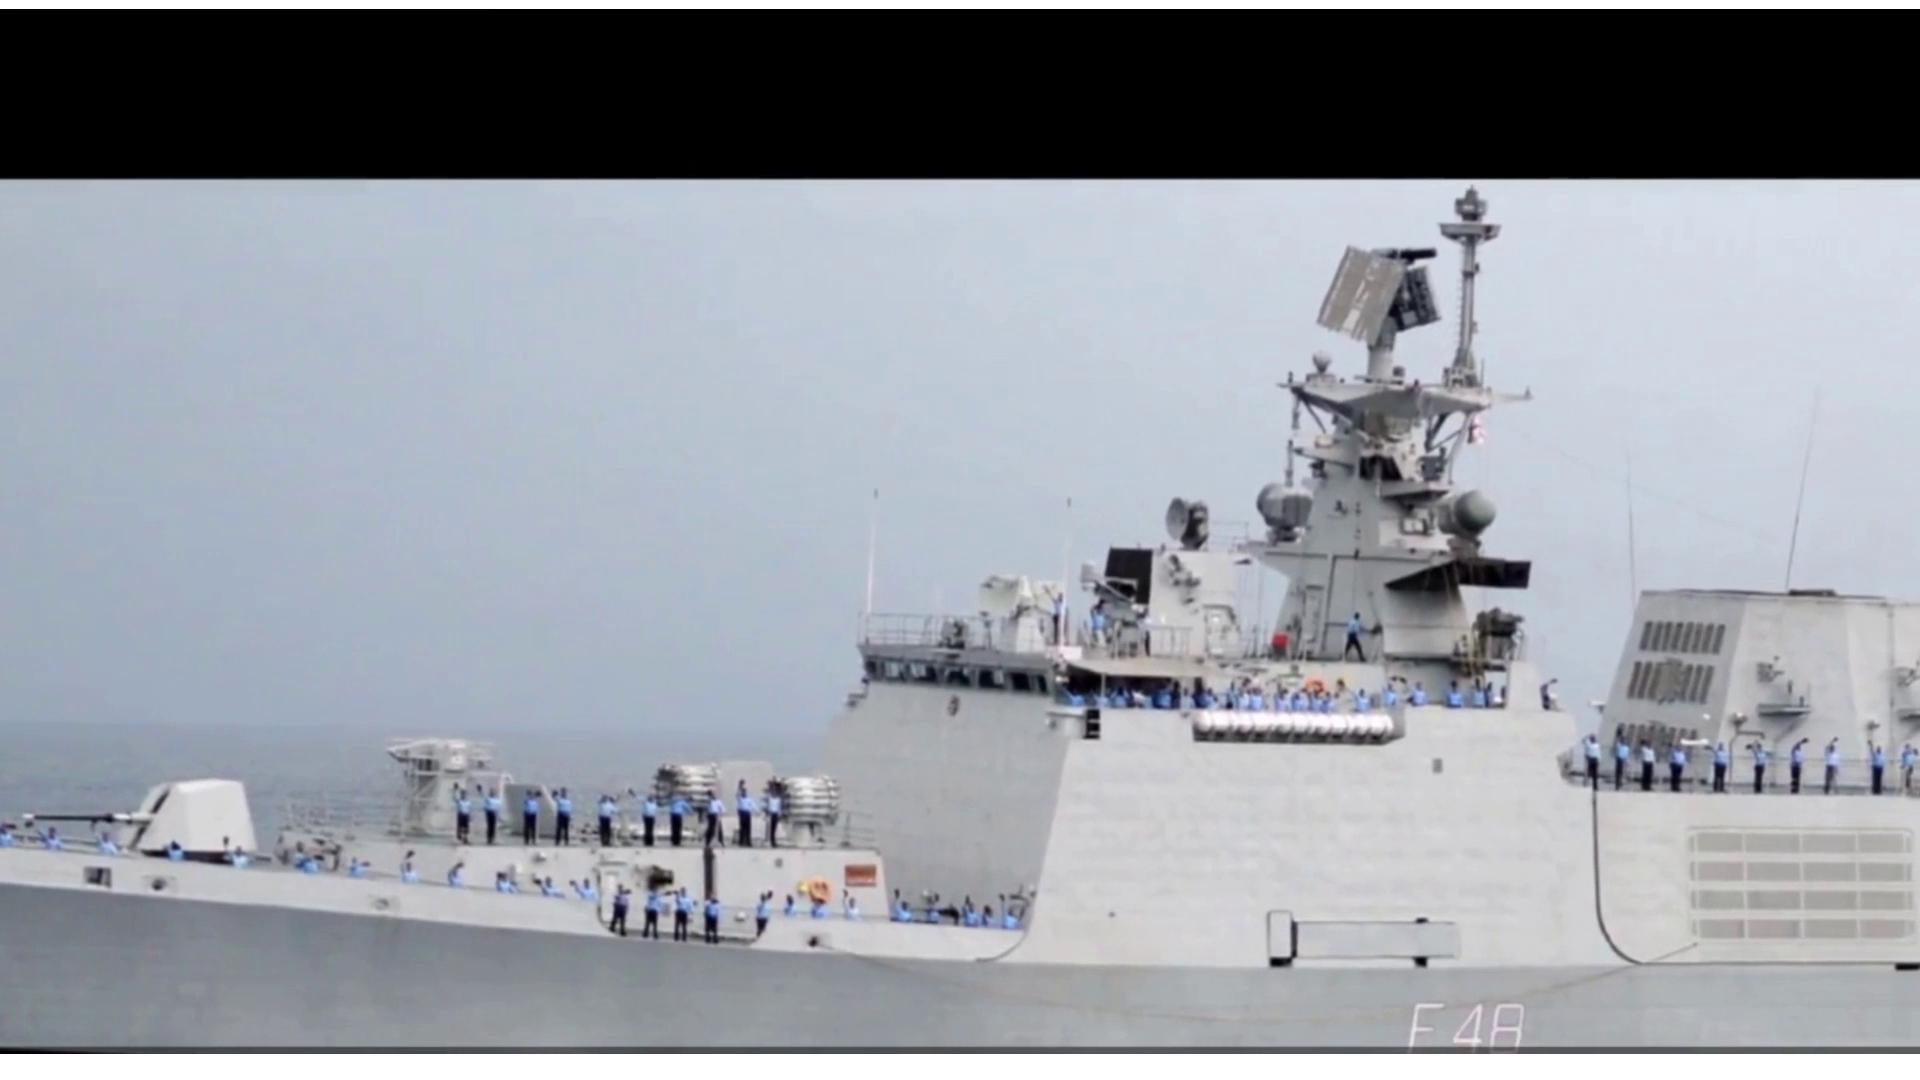OCR: (1381, 989, 1539, 1051)
